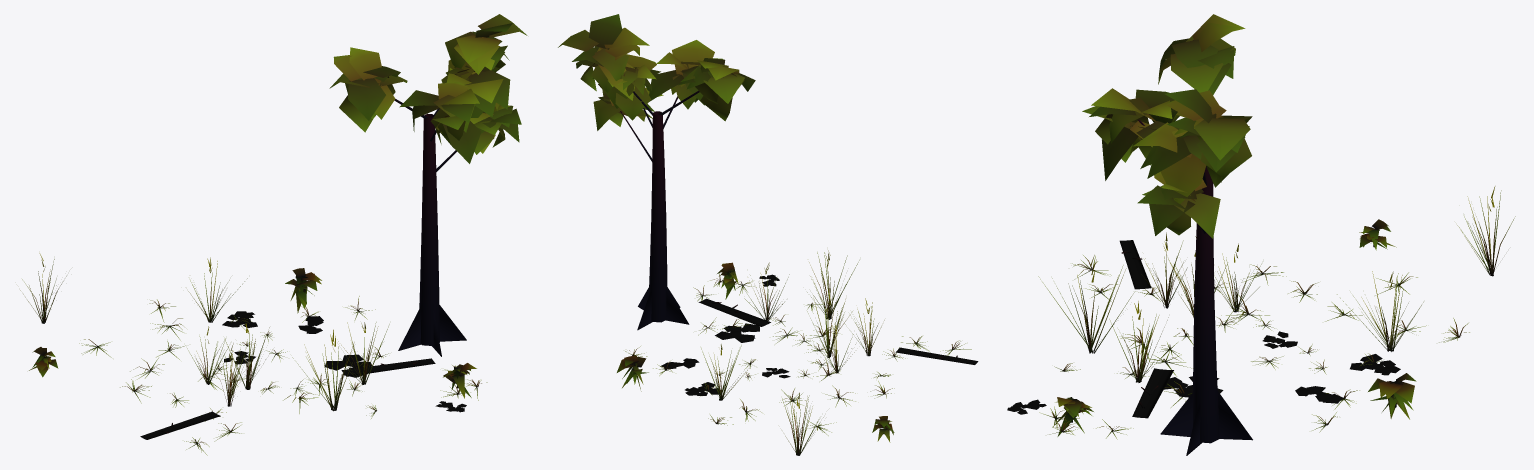
The model's file is patch_open.glb.
3 renders of one model, left to right at view 1: azimuth 30°, elevation 25°; view 2: azimuth 150°, elevation 25°; view 3: azimuth 270°, elevation 25°, orthographic. The views are drawn at different scales.
Visible parts, largest first — view 1: patch_open; view 2: patch_open; view 3: patch_open.
Part boxes in pixels (<box>): patch_open: <box>20,14,527,455</box>; patch_open: <box>558,14,978,455</box>; patch_open: <box>1007,14,1515,455</box>.
Size of the model in its own units: 18.27 by 12.9 by 15.14.
Materials: 1 (1 with a texture image).
